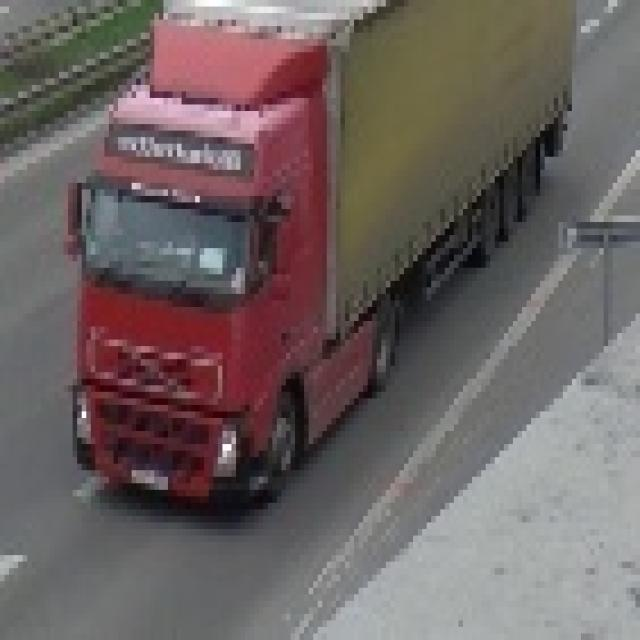TRUCK: (66, 0, 572, 502)
